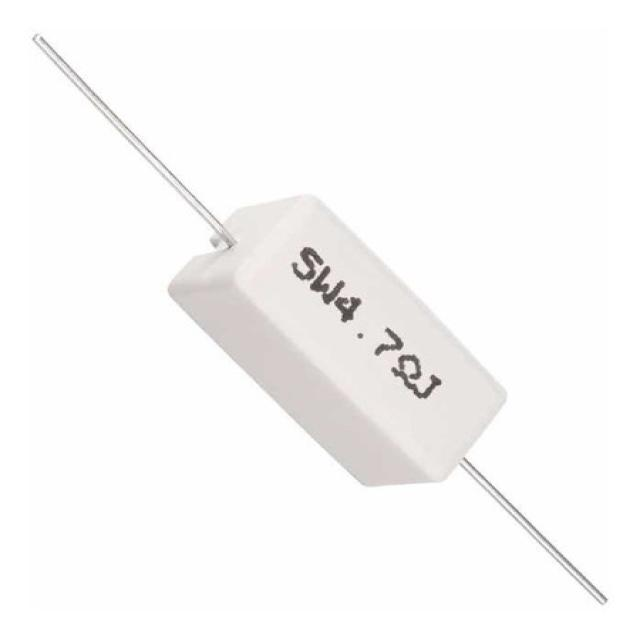Resistor: (182, 198, 498, 487)
